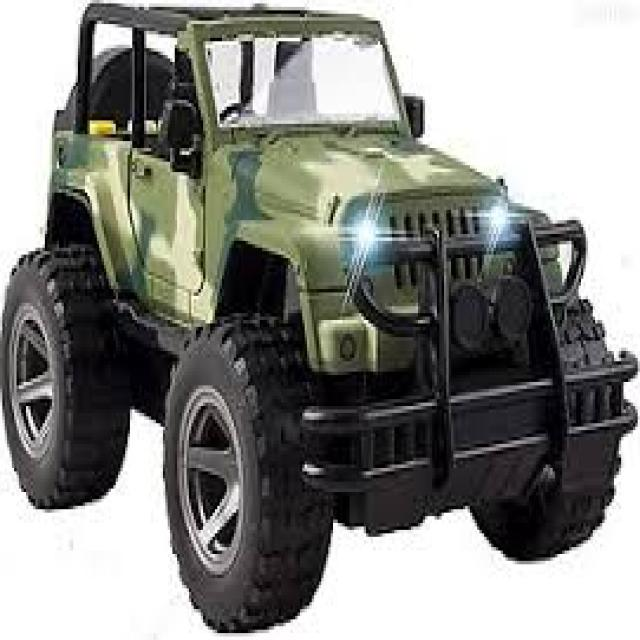Car: (2, 0, 640, 633)
